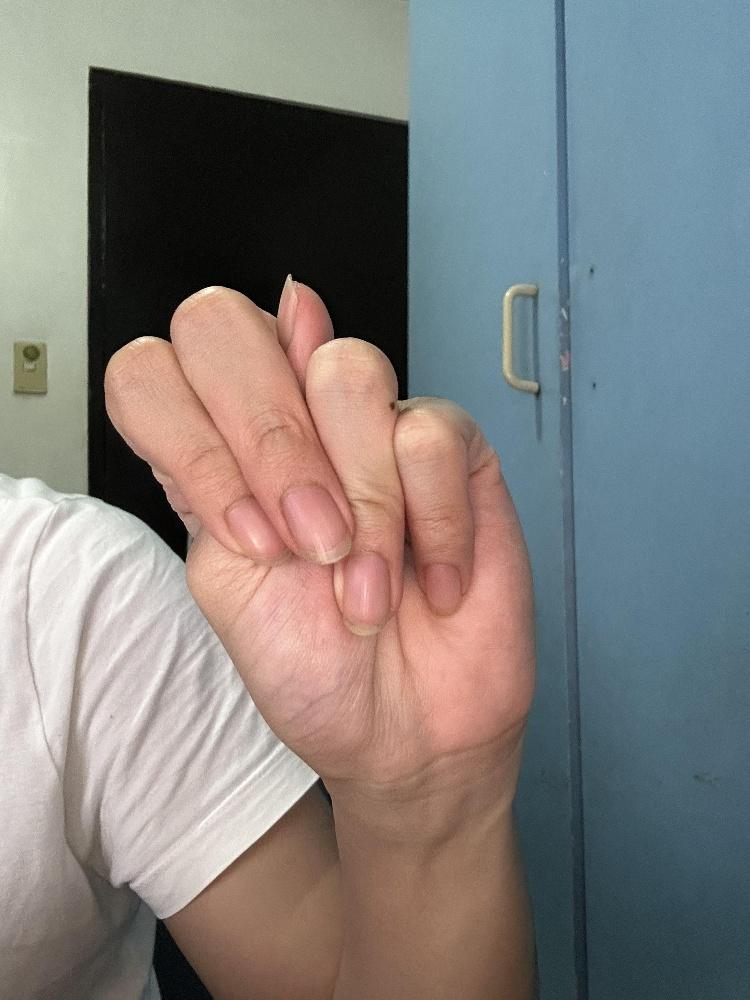n: (101, 266, 541, 799)
